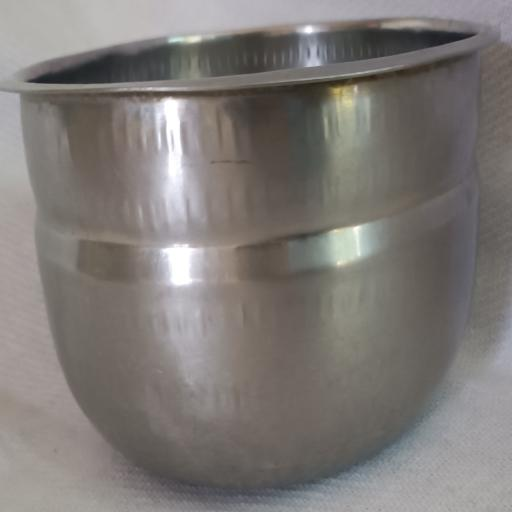vessel: (3, 19, 497, 487)
